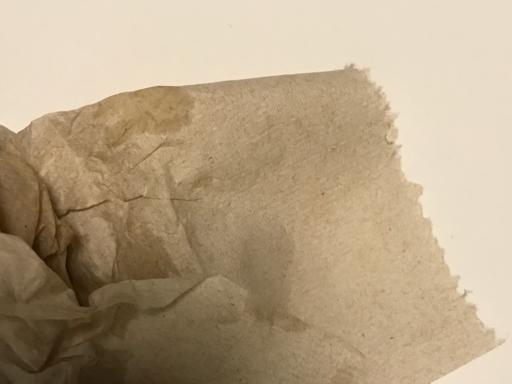trash: (0, 62, 509, 382)
